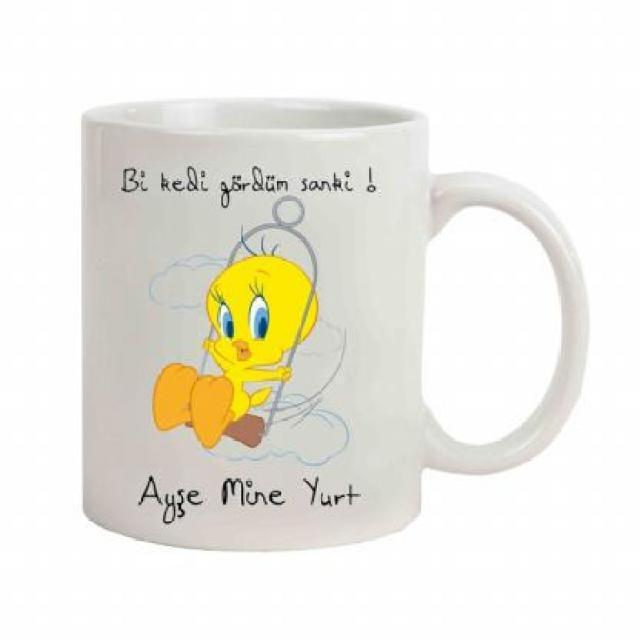taza: (78, 96, 593, 554)
